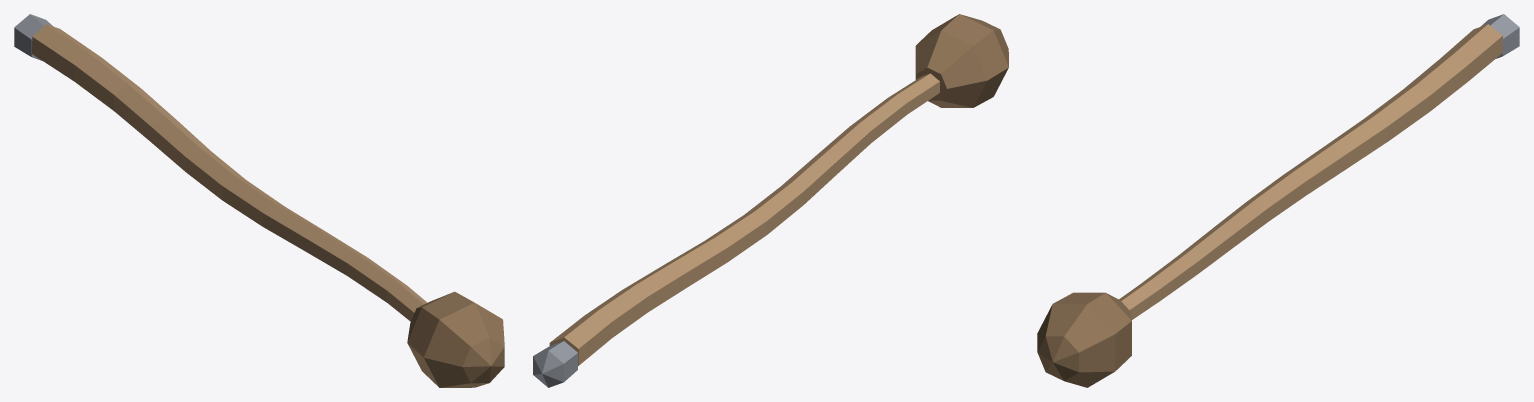
File: oakenstave.glb
The picture shows the model from 3 angles, left to right: view 1: azimuth 30°, elevation 25°; view 2: azimuth 150°, elevation 25°; view 3: azimuth 330°, elevation 25°; orthographic projection. The views are drawn at different scales.
Visible parts, largest first — view 1: oakenstave; view 2: oakenstave; view 3: oakenstave.
Boxes of the visible parts, bbox=[...] form: oakenstave: bbox=[14, 14, 504, 387]; oakenstave: bbox=[533, 14, 1008, 387]; oakenstave: bbox=[1037, 14, 1519, 387].
Bounding box in the file's own units: 0.1426 × 0.1462 × 1.45.
